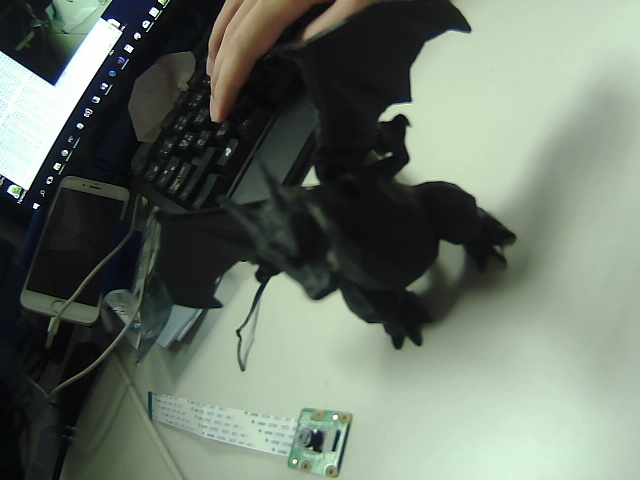charizard: (141, 1, 557, 373)
